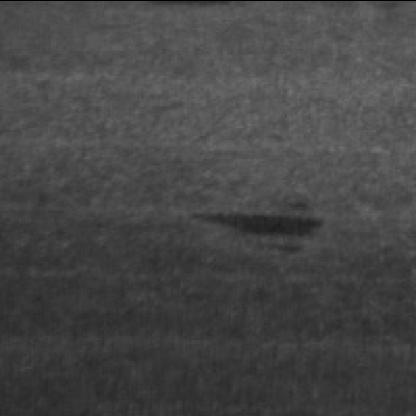inclusion: (183, 190, 335, 258)
